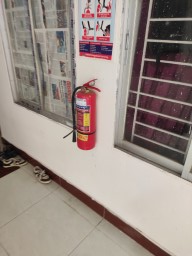fire_extinguisher: (59, 121, 113, 160)
